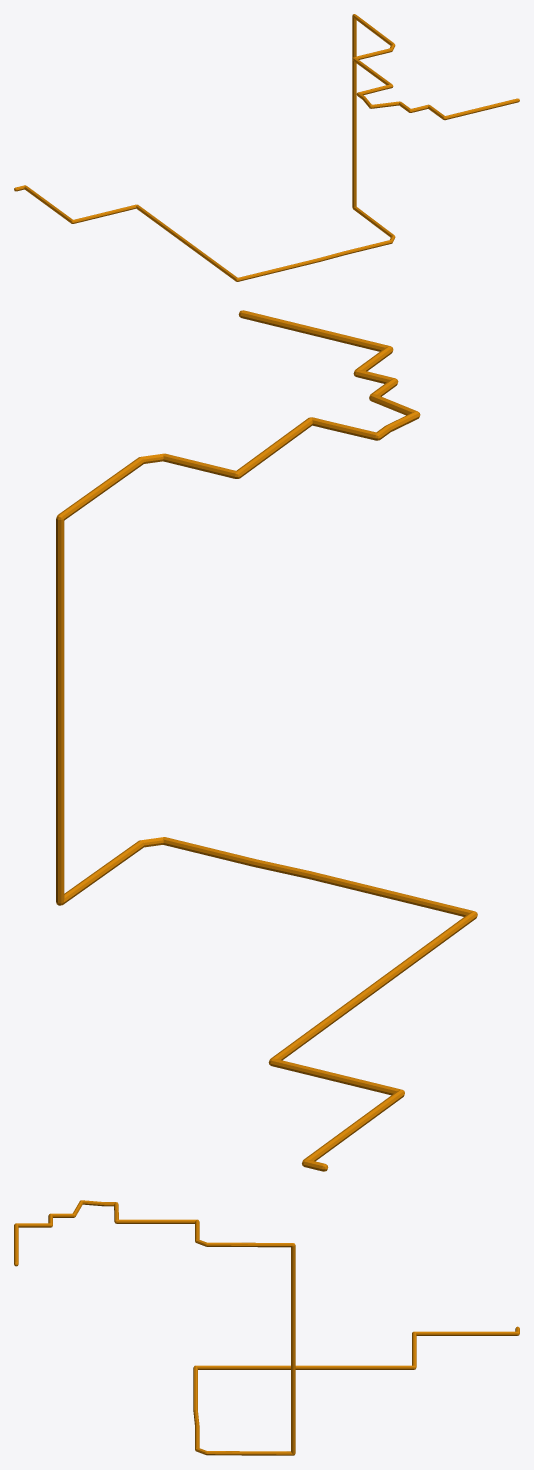
The picture shows the model from 3 angles, top to bottom: view 1: azimuth 30°, elevation 25°; view 2: azimuth 150°, elevation 25°; view 3: azimuth 270°, elevation 25°; orthographic projection. The views are drawn at different scales.
Size of the model in its own units: 1501 by 1020 by 2200.
